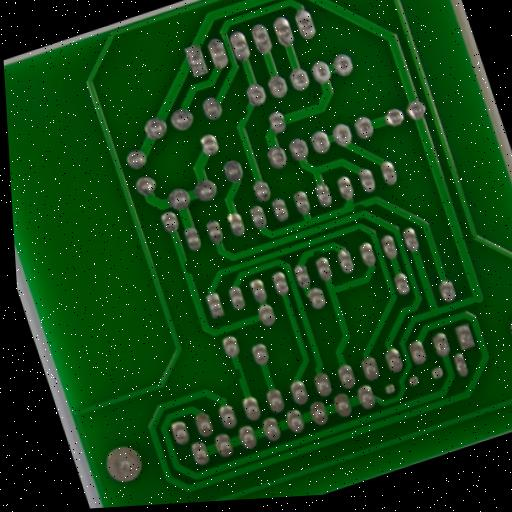mouse_bite: (233, 103, 255, 125), (177, 255, 195, 279), (349, 195, 370, 214), (230, 362, 248, 383), (308, 242, 327, 259)
